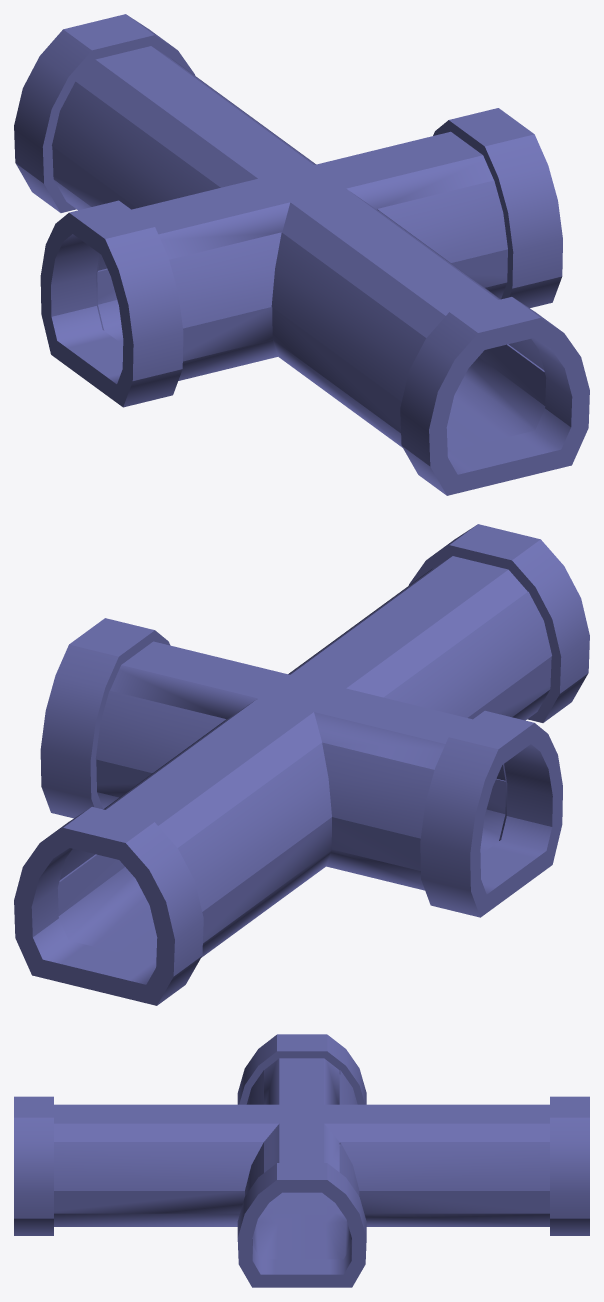
The model's file is tunnel_connect_cross.fbx.
The picture shows the model from 3 angles, top to bottom: view 1: azimuth 30°, elevation 25°; view 2: azimuth 150°, elevation 25°; view 3: azimuth 270°, elevation 25°; orthographic projection. The views are drawn at different scales.
Visible parts, largest first — view 1: tunnel_connect_cross.003 (×2), tunnel_connect_cross.001, tunnel_connect_cross; view 2: tunnel_connect_cross.003 (×2), tunnel_connect_cross.001, tunnel_connect_cross; view 3: tunnel_connect_cross.003 (×2), tunnel_connect_cross.001, tunnel_connect_cross.
Boxes of the visible parts, left/top/right/bottom form: tunnel_connect_cross.003 (×2): left=40, top=46, right=562, bottom=451; tunnel_connect_cross.001: left=52, top=58, right=544, bottom=401; tunnel_connect_cross: left=14, top=14, right=589, bottom=495; tunnel_connect_cross.003 (×2): left=40, top=556, right=562, bottom=961; tunnel_connect_cross.001: left=59, top=568, right=551, bottom=911; tunnel_connect_cross: left=14, top=524, right=589, bottom=1005; tunnel_connect_cross.003 (×2): left=54, top=1034, right=549, bottom=1287; tunnel_connect_cross.001: left=54, top=1070, right=549, bottom=1195; tunnel_connect_cross: left=14, top=1096, right=589, bottom=1235.
Size of the model in its own units: 301 by 504 by 104.
